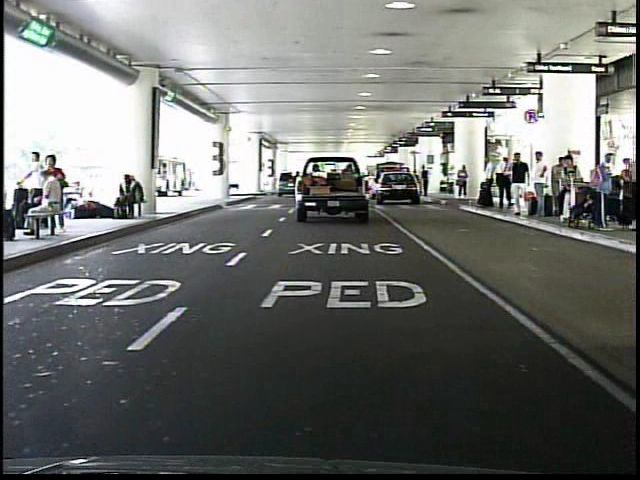person: (530, 149, 554, 223), (506, 151, 530, 223), (477, 152, 499, 214), (455, 163, 472, 203), (420, 164, 432, 200), (414, 168, 423, 200)
